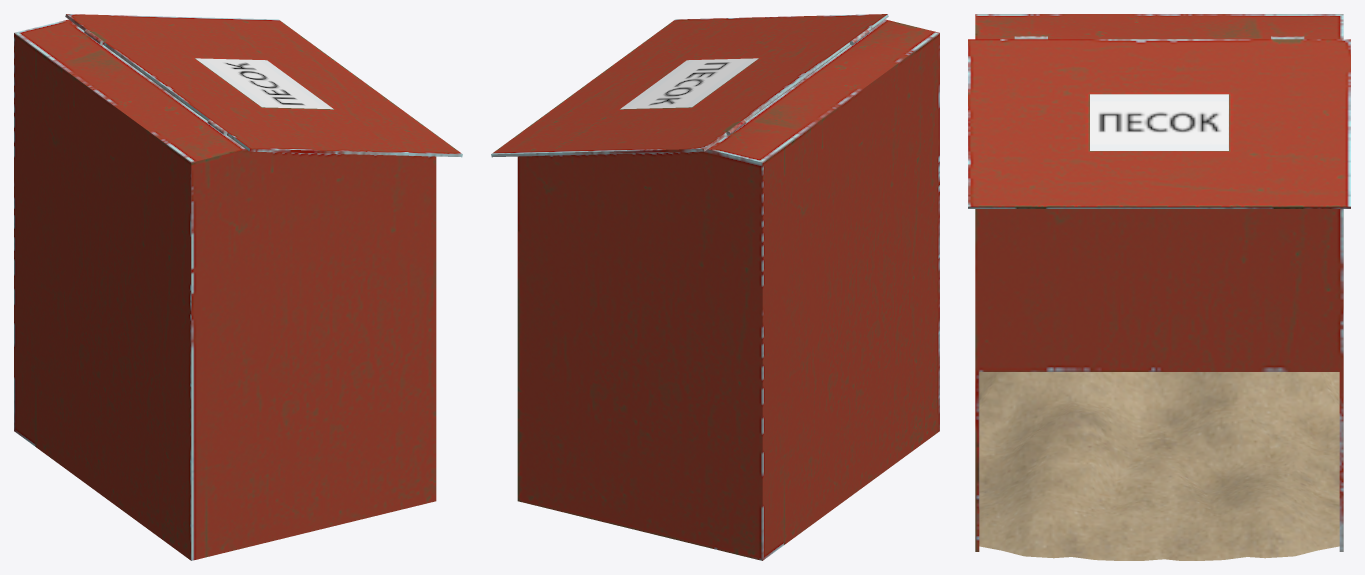
Rendered from BoxSand.fbx.
The picture shows the model from 3 angles, left to right: view 1: azimuth 30°, elevation 25°; view 2: azimuth 150°, elevation 25°; view 3: azimuth 270°, elevation 25°; orthographic projection. The views are drawn at different scales.
Visible parts, largest first — view 1: BoxSand, CapBoxSand; view 2: BoxSand, CapBoxSand; view 3: BoxSand, CapBoxSand.
Part boxes in pixels (x1,y1,x2,y2): BoxSand: (14, 19, 436, 560); CapBoxSand: (65, 14, 462, 157); BoxSand: (517, 19, 939, 560); CapBoxSand: (491, 14, 888, 157); BoxSand: (975, 14, 1343, 560); CapBoxSand: (968, 36, 1350, 208).
Bounding box in the file's own units: 55.7 × 79.92 × 66.29.
1 material, 1 textured.
